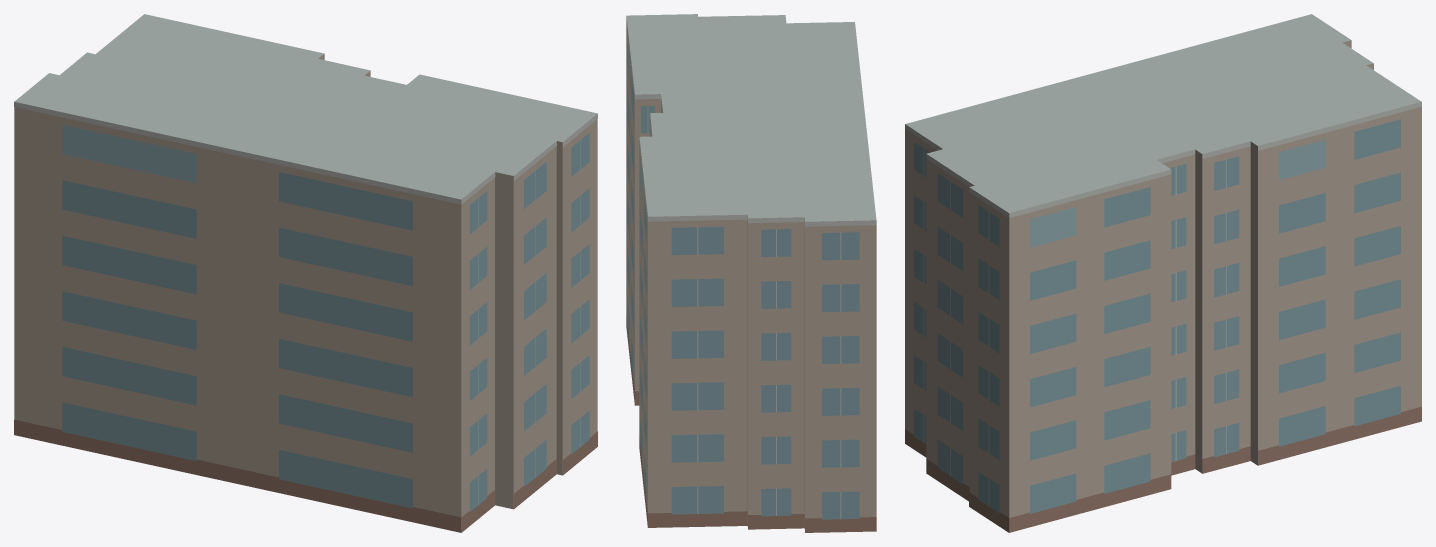
The model's file is survey-upis-32776219.glb.
3 renders of one model, left to right at view 1: azimuth 30°, elevation 25°; view 2: azimuth 150°, elevation 25°; view 3: azimuth 270°, elevation 25°, orthographic. The views are drawn at different scales.
Visible parts, largest first — view 1: survey-upis-32776219.tmp; view 2: survey-upis-32776219.tmp; view 3: survey-upis-32776219.tmp.
Boxes of the visible parts, <box> form: survey-upis-32776219.tmp: <box>14,14,597,532</box>; survey-upis-32776219.tmp: <box>626,14,876,532</box>; survey-upis-32776219.tmp: <box>905,14,1421,532</box>.
Size of the model in its own units: 21.13 by 15.8 by 23.16.
